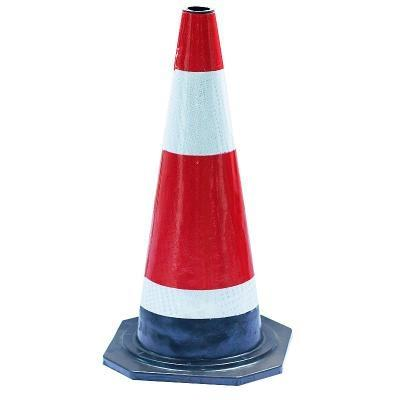cone_barrel: (121, 9, 276, 360)
